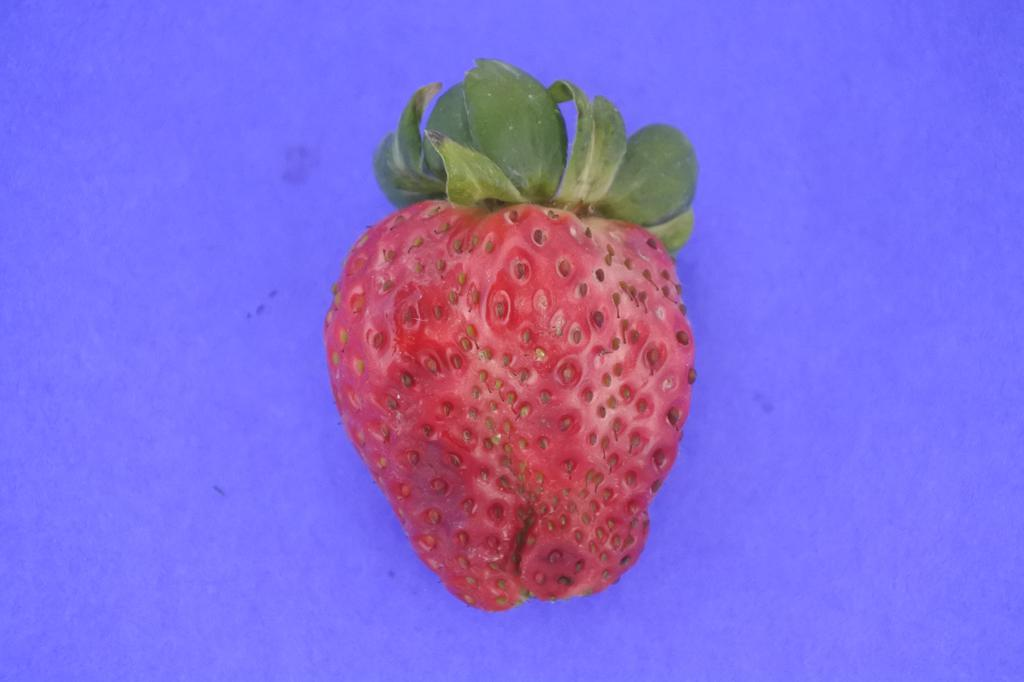red strawberry: (320, 59, 695, 615)
